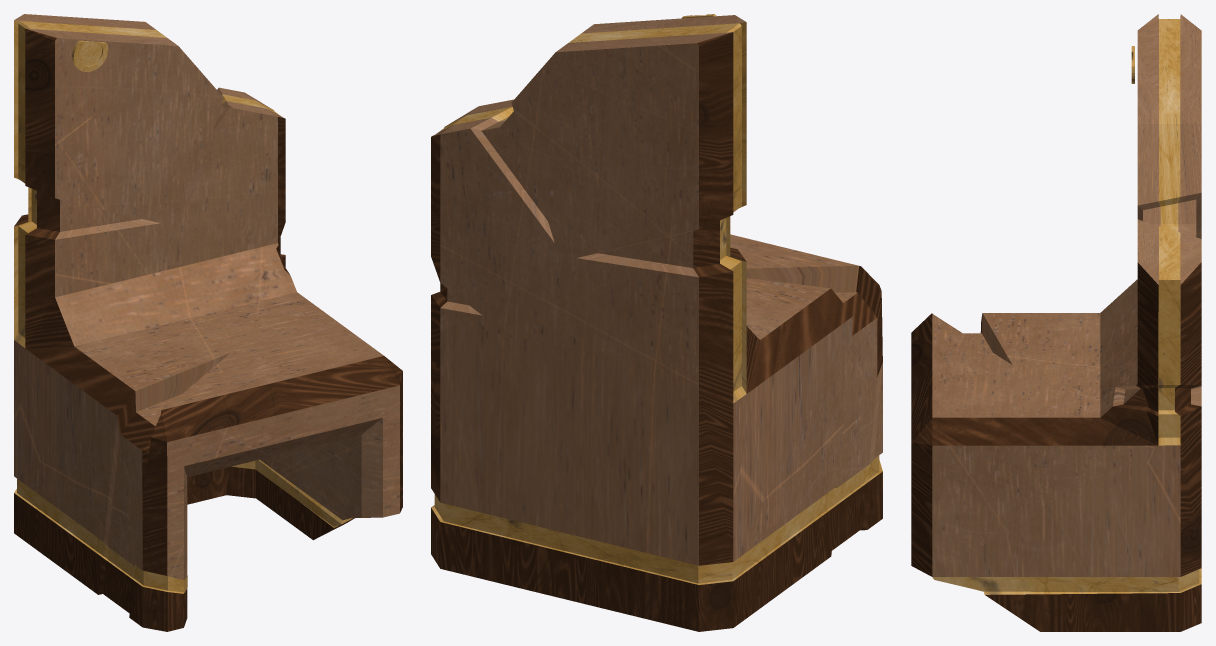
The model's file is destroyed_chair_3 (1).fbx.
The picture shows the model from 3 angles, left to right: view 1: azimuth 30°, elevation 25°; view 2: azimuth 150°, elevation 25°; view 3: azimuth 270°, elevation 25°; orthographic projection. The views are drawn at different scales.
Parts seen in each view (by area): view 1: Cube.011; view 2: Cube.011; view 3: Cube.011.
Boxes of the visible parts, x1,y1,x2,y2 form: Cube.011: [14, 14, 402, 631]; Cube.011: [431, 14, 882, 631]; Cube.011: [911, 14, 1201, 631].
Bounding box in the file's own units: 46.12 × 86.87 × 46.1.
Materials: 3 (3 with a texture image).
